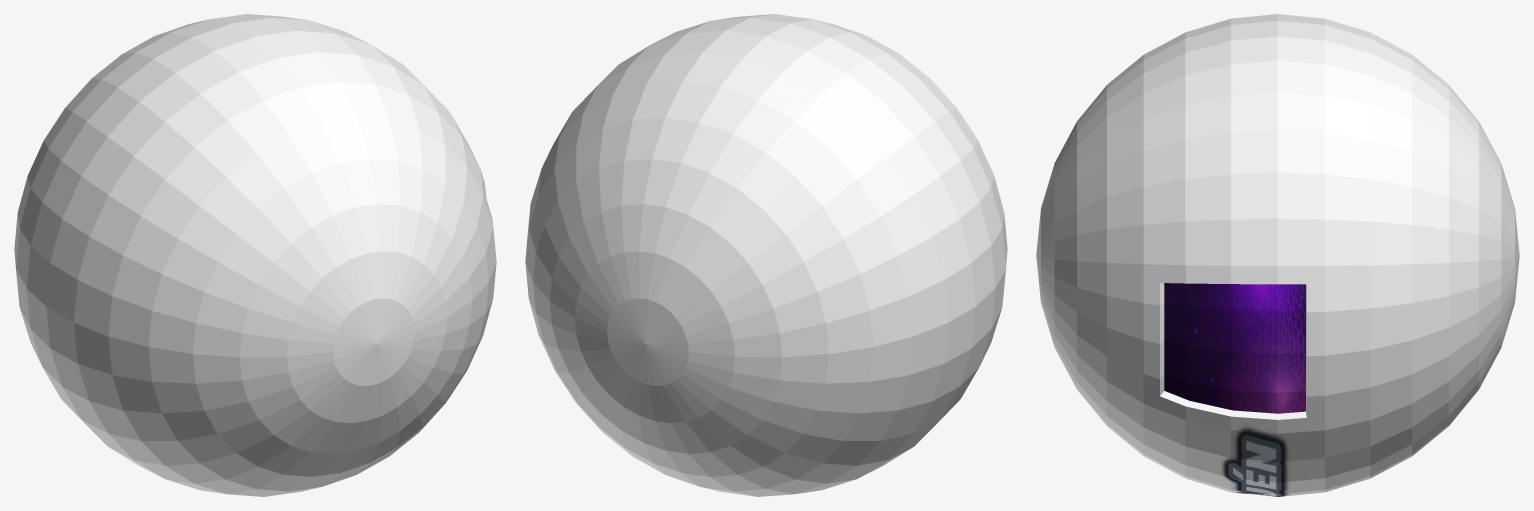
Rendered from capsula.glb.
The picture shows the model from 3 angles, left to right: view 1: azimuth 30°, elevation 25°; view 2: azimuth 150°, elevation 25°; view 3: azimuth 270°, elevation 25°; orthographic projection.
Visible parts, largest first — view 1: Sphere; view 2: Sphere; view 3: Sphere.
Part boxes in pixels (x1=…): Sphere: x1=14, y1=14, x2=496, y2=496; Sphere: x1=525, y1=14, x2=1007, y2=496; Sphere: x1=1036, y1=14, x2=1519, y2=496.
Size of the model in its own units: 27.42 by 27.58 by 27.58.
2 materials, 2 textured.
